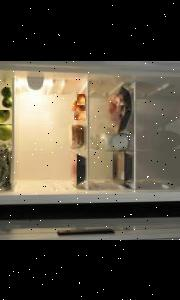Manzana: (0, 124, 13, 140), (0, 108, 12, 122)
Zanahoria: (74, 110, 86, 119), (77, 93, 85, 104), (70, 100, 78, 110), (76, 104, 84, 114)
